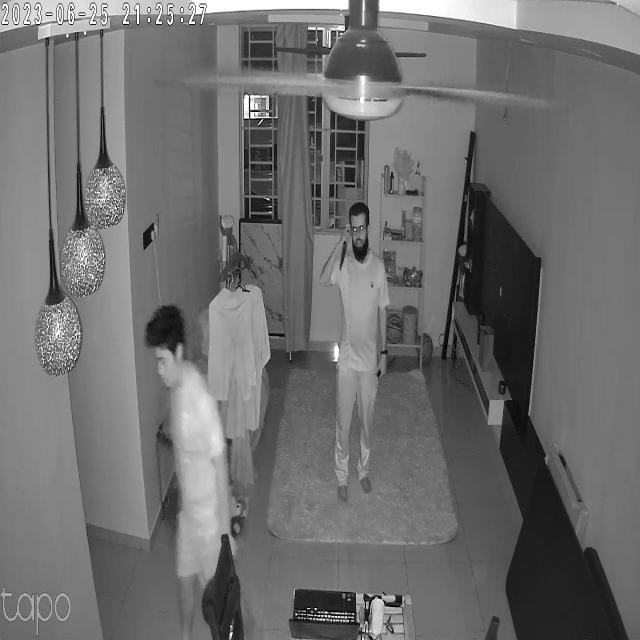Knife: (335, 228, 353, 274)
